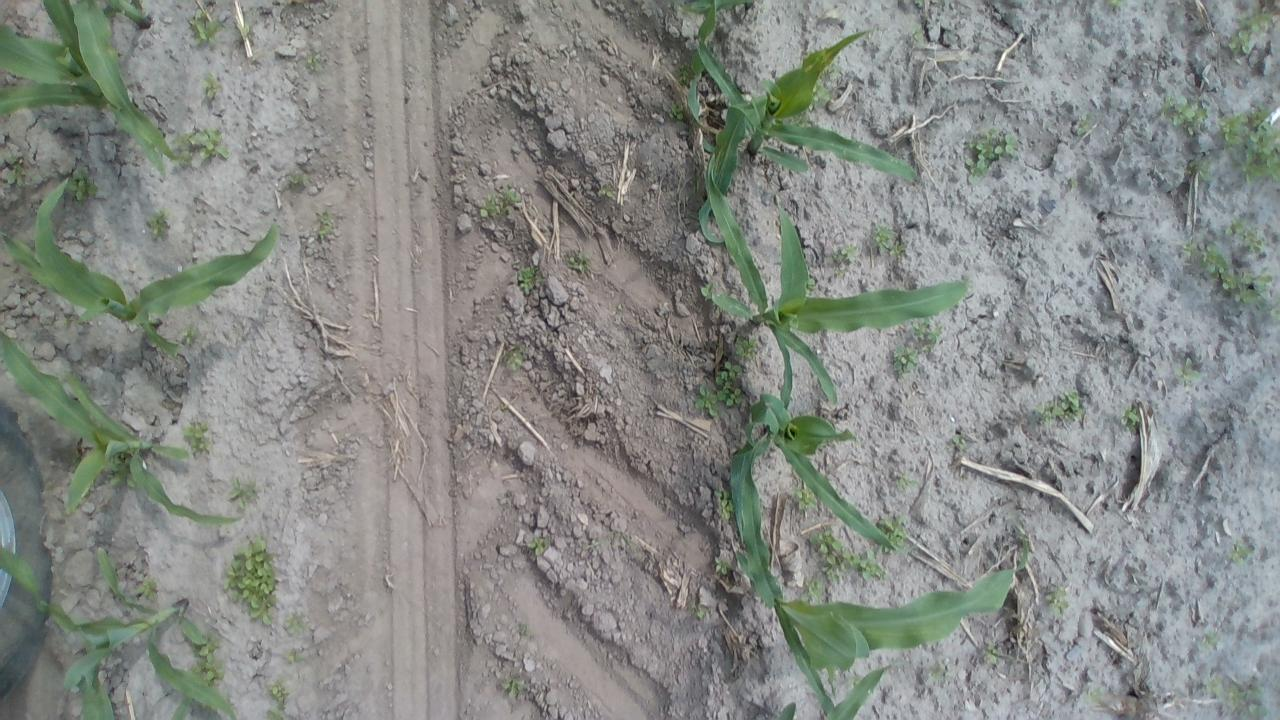Maize: (699, 133, 973, 411), (720, 507, 1032, 714), (0, 320, 246, 528), (0, 182, 280, 359), (684, 15, 920, 219), (1, 539, 243, 720), (740, 374, 912, 598), (0, 0, 183, 173), (677, 0, 750, 130), (826, 664, 891, 720), (101, 0, 156, 32)
Weeds: (1190, 242, 1272, 309), (223, 534, 280, 628), (1220, 103, 1278, 185), (806, 526, 878, 584), (1206, 257, 1275, 311), (965, 128, 1020, 184), (1224, 4, 1274, 60), (168, 124, 230, 166), (832, 667, 884, 716), (190, 634, 226, 688), (1034, 390, 1082, 426), (1163, 94, 1206, 132), (475, 187, 521, 219), (1224, 217, 1267, 251), (850, 544, 889, 581), (1225, 682, 1264, 719), (187, 7, 223, 46), (876, 511, 911, 550), (872, 224, 906, 258), (64, 168, 98, 202), (182, 421, 215, 454), (718, 372, 748, 408), (228, 477, 258, 510), (800, 571, 829, 604), (1176, 354, 1204, 388), (693, 383, 720, 418), (914, 320, 945, 350), (716, 360, 746, 391), (890, 345, 918, 378), (1048, 584, 1071, 622), (106, 461, 136, 489), (716, 485, 738, 522), (146, 210, 173, 240), (733, 333, 761, 361), (674, 56, 702, 84), (516, 264, 542, 294), (3, 158, 27, 190), (1228, 538, 1254, 567), (200, 72, 223, 103), (503, 345, 528, 373), (792, 483, 816, 512), (566, 250, 594, 274), (498, 676, 526, 699), (313, 210, 334, 240), (1187, 156, 1213, 180), (1180, 238, 1208, 260), (832, 244, 856, 269), (137, 577, 160, 603), (285, 169, 313, 190), (812, 78, 833, 106), (282, 613, 308, 635), (525, 534, 551, 556), (268, 680, 290, 704), (894, 472, 919, 493), (1122, 404, 1142, 430), (926, 662, 950, 683), (304, 50, 324, 75), (1072, 114, 1094, 136), (982, 644, 1002, 667), (789, 112, 816, 128), (1083, 685, 1103, 706), (668, 100, 688, 121), (180, 326, 200, 346), (1200, 630, 1220, 650), (234, 22, 253, 41), (692, 602, 710, 622), (950, 432, 967, 453), (1204, 676, 1222, 695), (515, 621, 533, 639), (699, 282, 716, 301), (284, 648, 304, 664), (714, 556, 730, 576), (908, 25, 924, 43), (59, 316, 78, 329), (264, 708, 286, 719), (600, 184, 616, 198), (1106, 0, 1124, 12)
